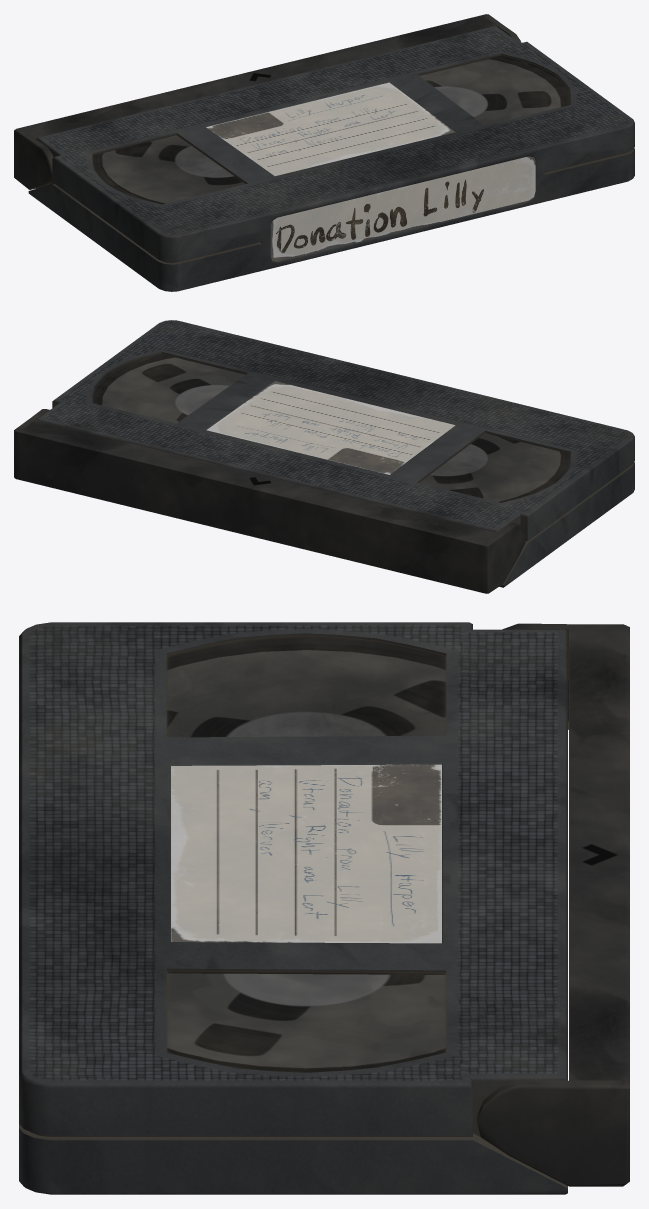
Rendered from vhs_tape.glb.
3 renders of one model, top to bottom at view 1: azimuth 30°, elevation 25°; view 2: azimuth 150°, elevation 25°; view 3: azimuth 270°, elevation 25°, orthographic. The views are drawn at different scales.
Visible parts, largest first — view 1: VHS; view 2: VHS; view 3: VHS.
Boxes of the visible parts, x1,y1,x2,y2 form: VHS: [14, 14, 634, 291]; VHS: [14, 320, 634, 593]; VHS: [19, 622, 629, 1194].
Size of what is drawn, in the model's own units: 7.18 by 0.7976 by 3.99.
Materials: 2 (2 with a texture image).
